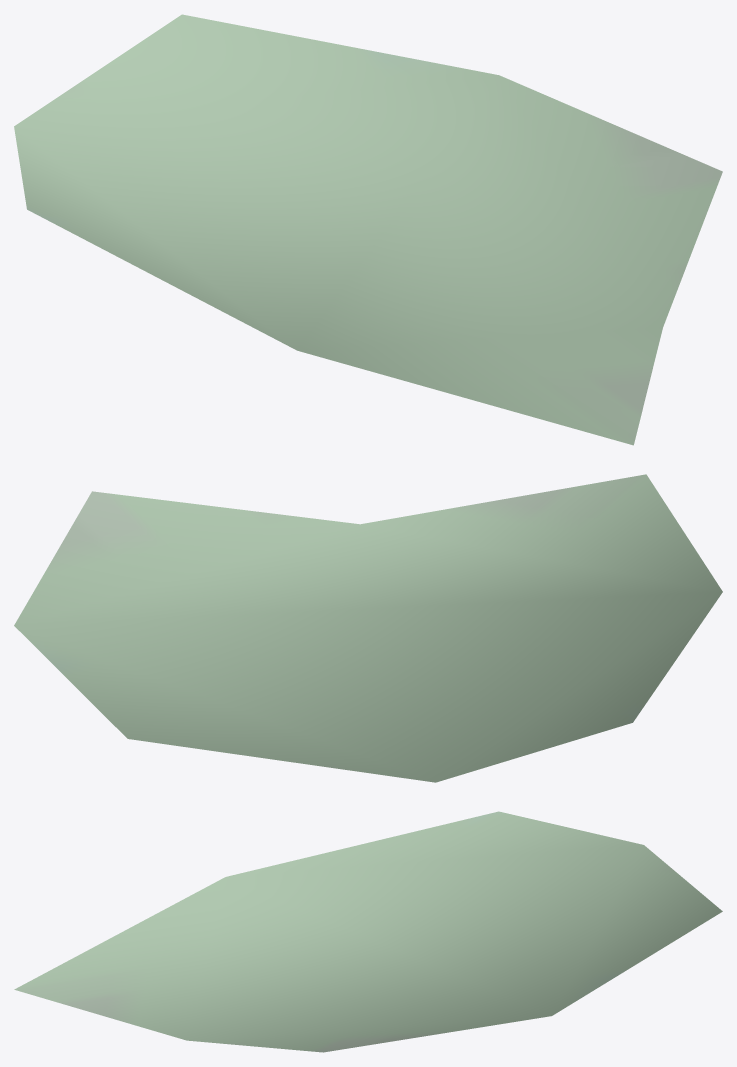
Rendered from TROLLHOLE02_HOLECAP38.fbx.
3 views of the same model, one above another, from view 1: azimuth 30°, elevation 25°; view 2: azimuth 150°, elevation 25°; view 3: azimuth 270°, elevation 25° (orthographic). The views are drawn at different scales.
Parts seen in each view (by area): view 1: TROLLHOLE02_HOLECAP38; view 2: TROLLHOLE02_HOLECAP38; view 3: TROLLHOLE02_HOLECAP38.
Boxes of the visible parts, <box> form: TROLLHOLE02_HOLECAP38: <box>14,14,722,445</box>; TROLLHOLE02_HOLECAP38: <box>14,474,722,782</box>; TROLLHOLE02_HOLECAP38: <box>14,811,722,1052</box>.
Bounding box in the file's own units: 17985 × 2942 × 24121.
Materials: 1 (1 with a texture image).
